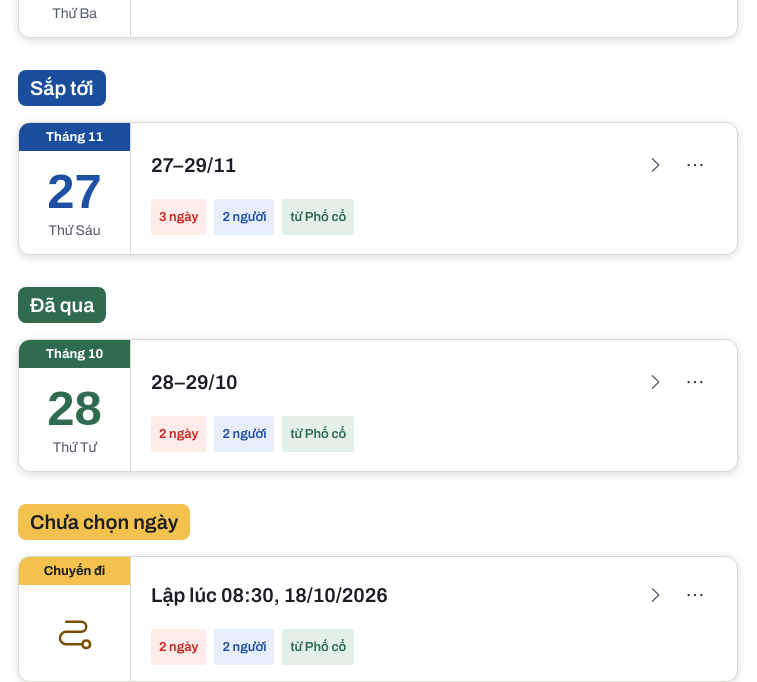
Test case: trips in the account (F22) › removes a trip from the account after a confirmation behind the row menu
(page scrolled)
Click the button named "Thao tác với chuyến" in the row of "28–29/10".
click(695, 382)  # box x1=673 y1=360 x2=717 y2=404
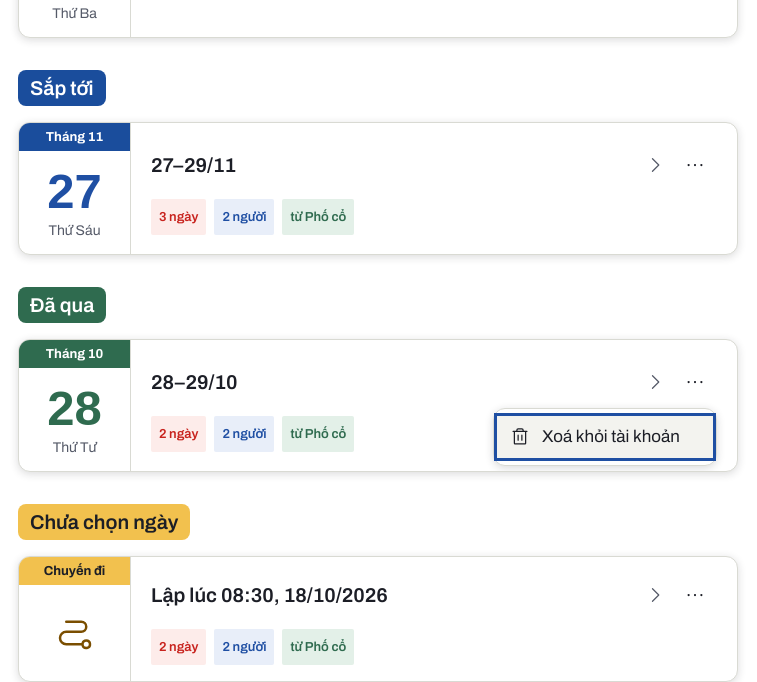
Click the menu item "Xoá khỏi tài khoản".
click(605, 436)  # box x1=494 y1=412 x2=716 y2=460
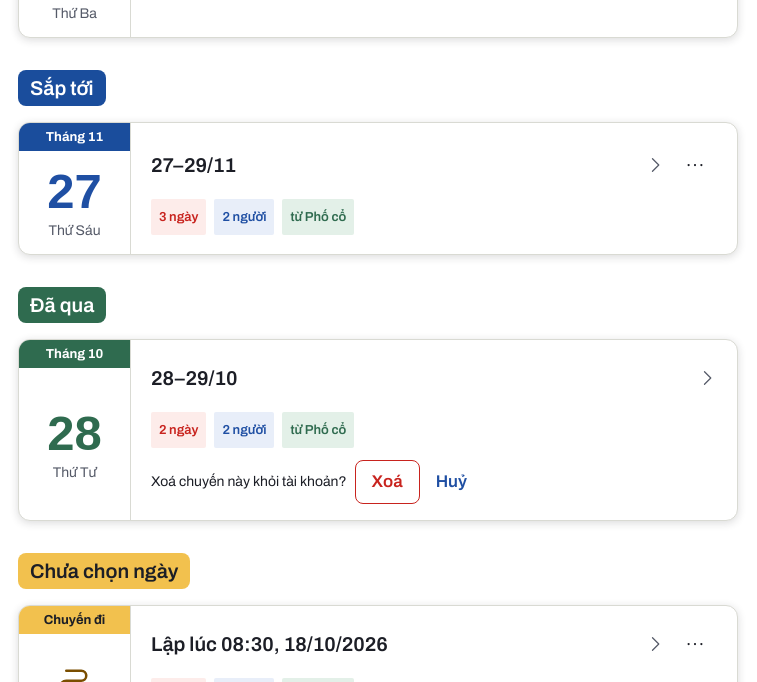
Click the button "Xoá".
click(387, 482)  # box x1=355 y1=460 x2=420 y2=504
(page scrolled)
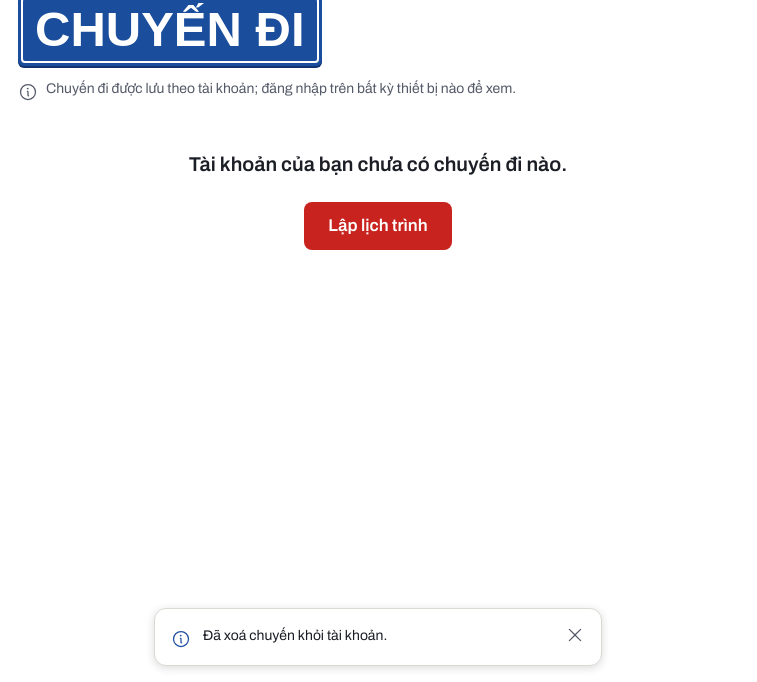
Check: the text "Đã xoá chuyến khỏi tài khoản." is shown, box x1=203 y1=628 x2=387 y2=643
Check: the text "Đã qua" is gone
